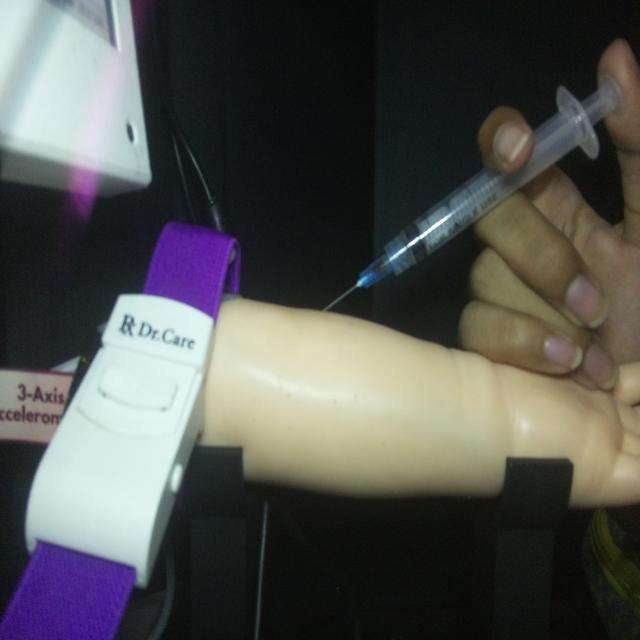28 degrees: (321, 69, 624, 314)
